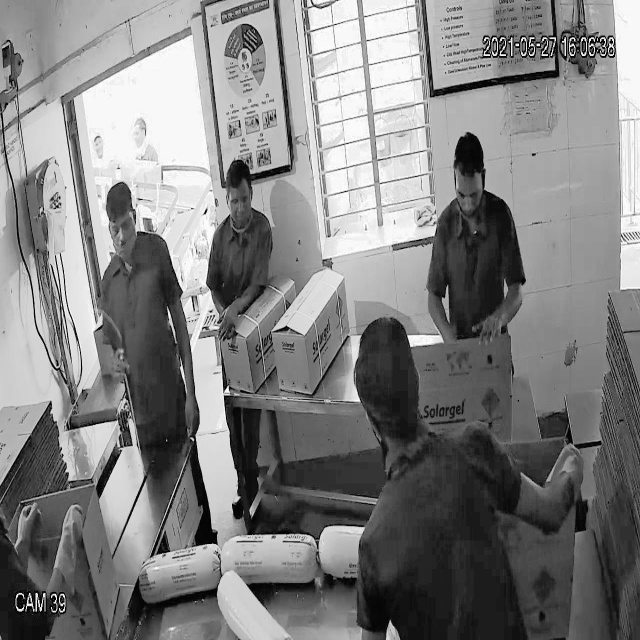Sin_gafas: (450, 177, 492, 212), (99, 212, 142, 246)
